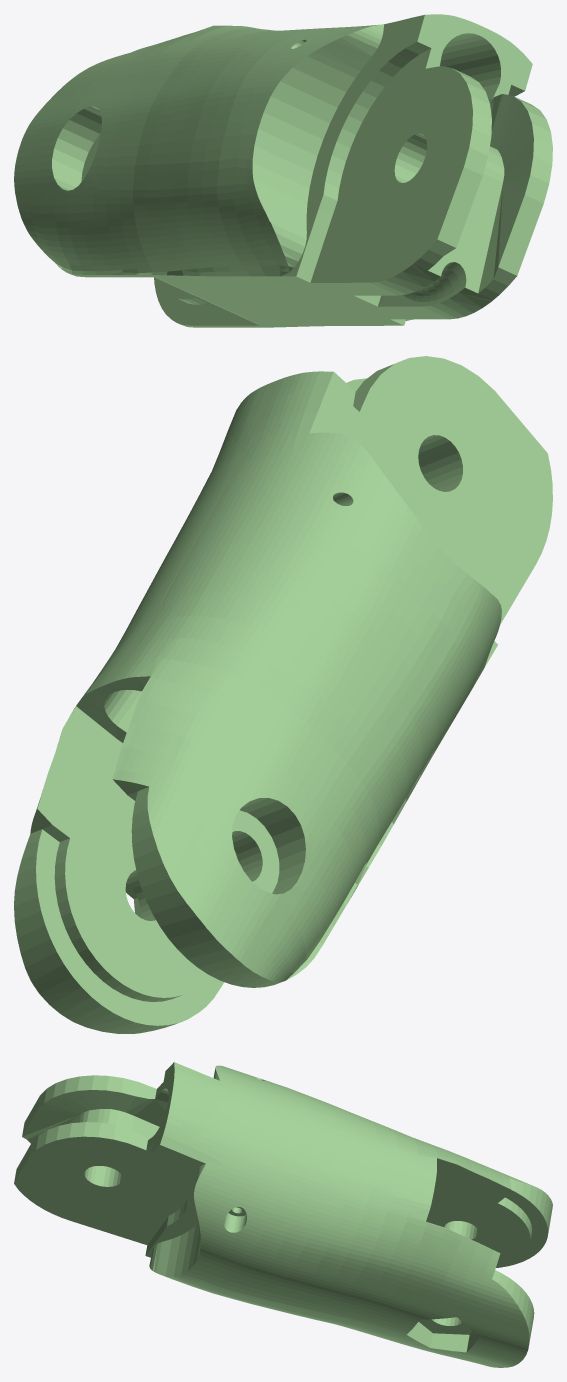
File: i02_leftHand_ringFingerPhal_visual.obj
3 renders of one model, top to bottom at view 1: azimuth 30°, elevation 25°; view 2: azimuth 150°, elevation 25°; view 3: azimuth 270°, elevation 25°, orthographic. The views are drawn at different scales.
Visible parts, largest first — view 1: i02_leftHand_ringFingerPhal_visual.001; view 2: i02_leftHand_ringFingerPhal_visual.001; view 3: i02_leftHand_ringFingerPhal_visual.001.
Part boxes in pixels (x1,y1,x2,y2): i02_leftHand_ringFingerPhal_visual.001: (14,14,552,327); i02_leftHand_ringFingerPhal_visual.001: (14,356,552,1033); i02_leftHand_ringFingerPhal_visual.001: (14,1062,552,1367).
Size of the model in its own units: 0.214 by 0.3231 by 0.5002.
